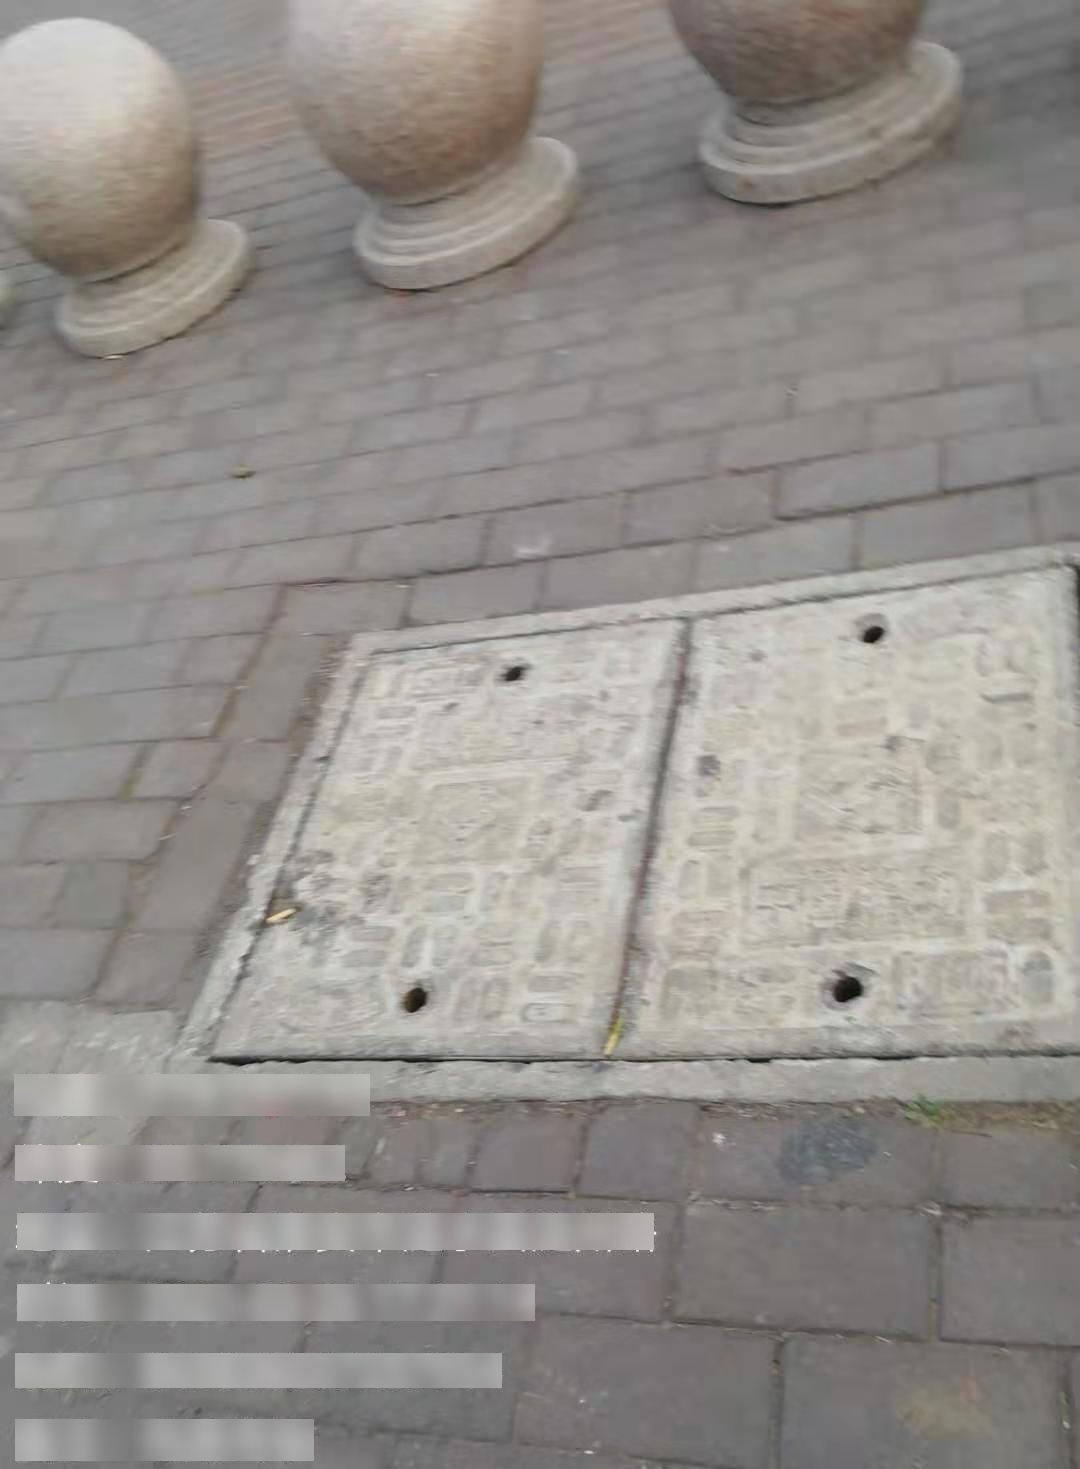good: (169, 539, 1080, 1103)
